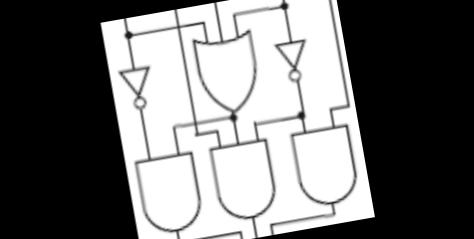and: (202, 132, 282, 226), (131, 145, 209, 239), (286, 118, 364, 210)
not: (270, 31, 318, 85), (116, 59, 160, 112)
or: (192, 26, 268, 118)
